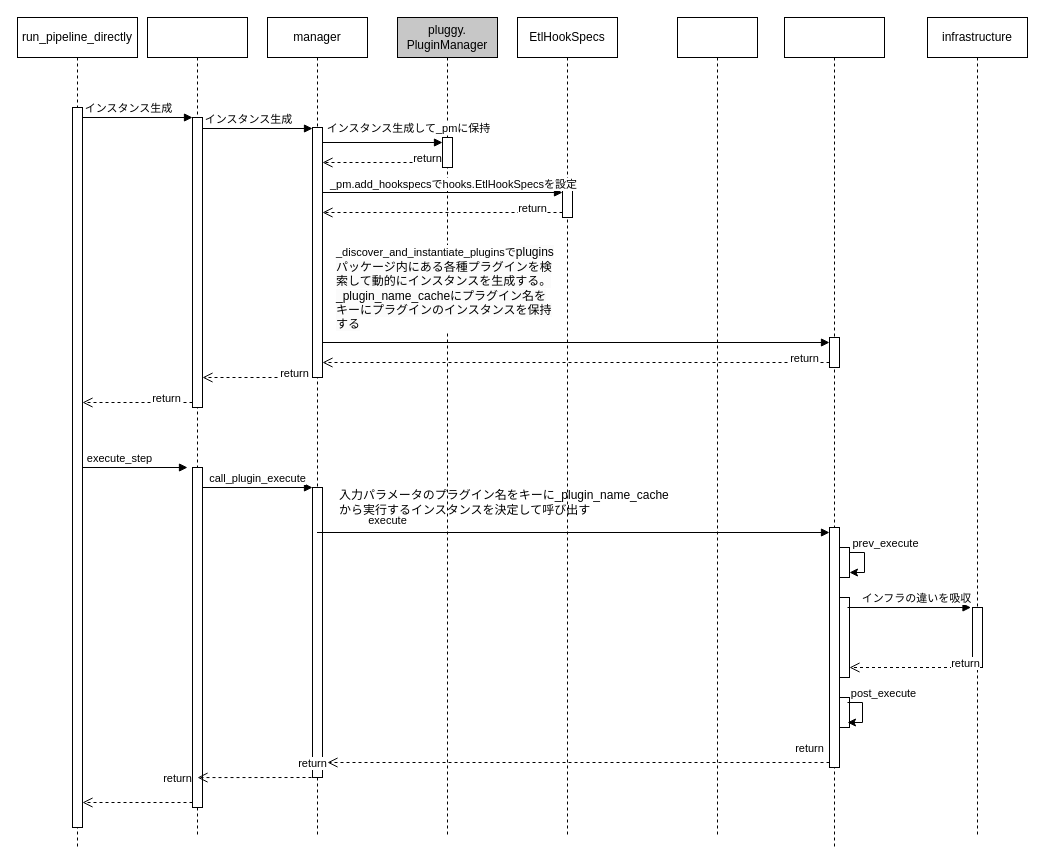
Some shapes in this 1045 by 865 pixel diagram are drawn without their labels. The box of each missing label's shape, as (x1, y1, x2, y2) in pixels:
BasePlugin: (676, 16, 758, 838)
plugins. 各種Plugin: (784, 16, 884, 848)
StepExecutor: (146, 16, 248, 838)
